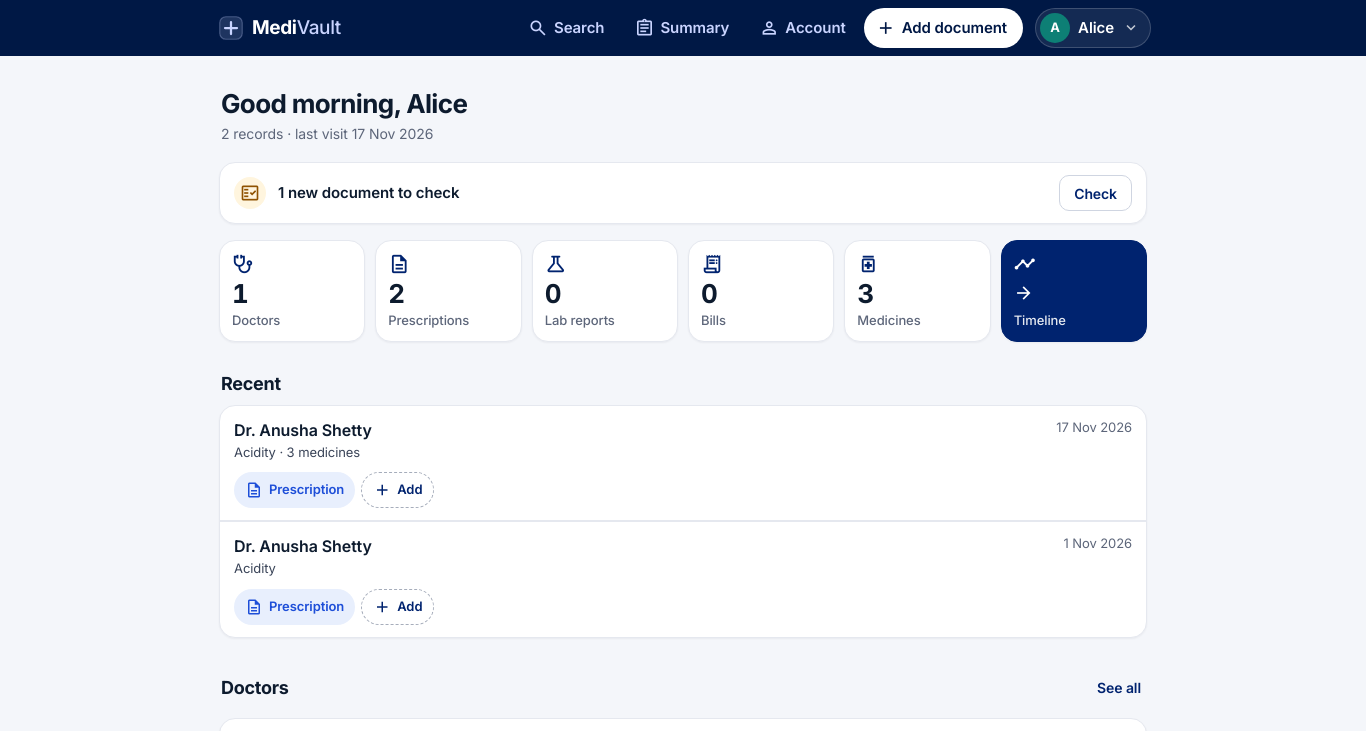
Test: closing without saving changes nothing and it waits under "to check" on Home
expect the text "1 new document to check" is shown: met, box top-left (278, 183), bottom-right (459, 202)
Step 1. Click the button "Check" → (1096, 193), box top-left (1059, 175), bottom-right (1132, 211)
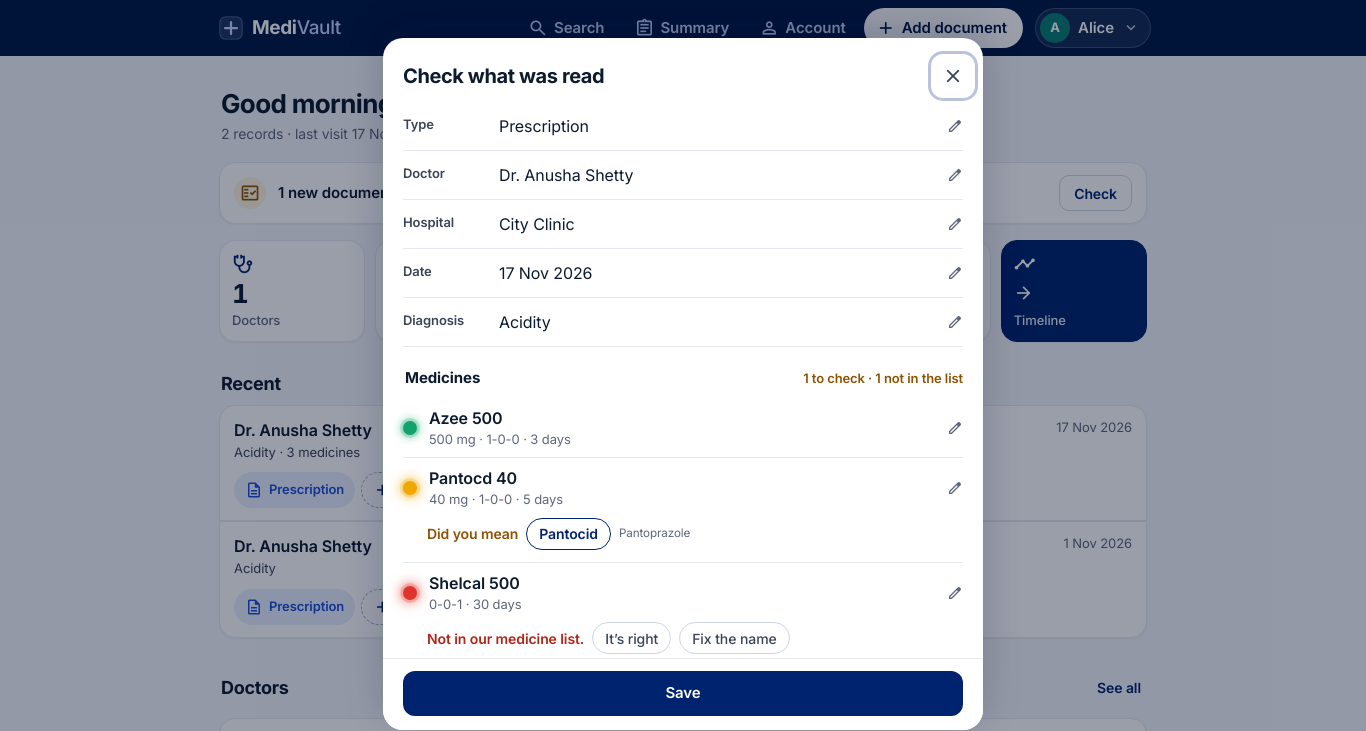
Step 2. Click the button named "Close without saving" → (953, 76), box top-left (931, 54), bottom-right (975, 98)
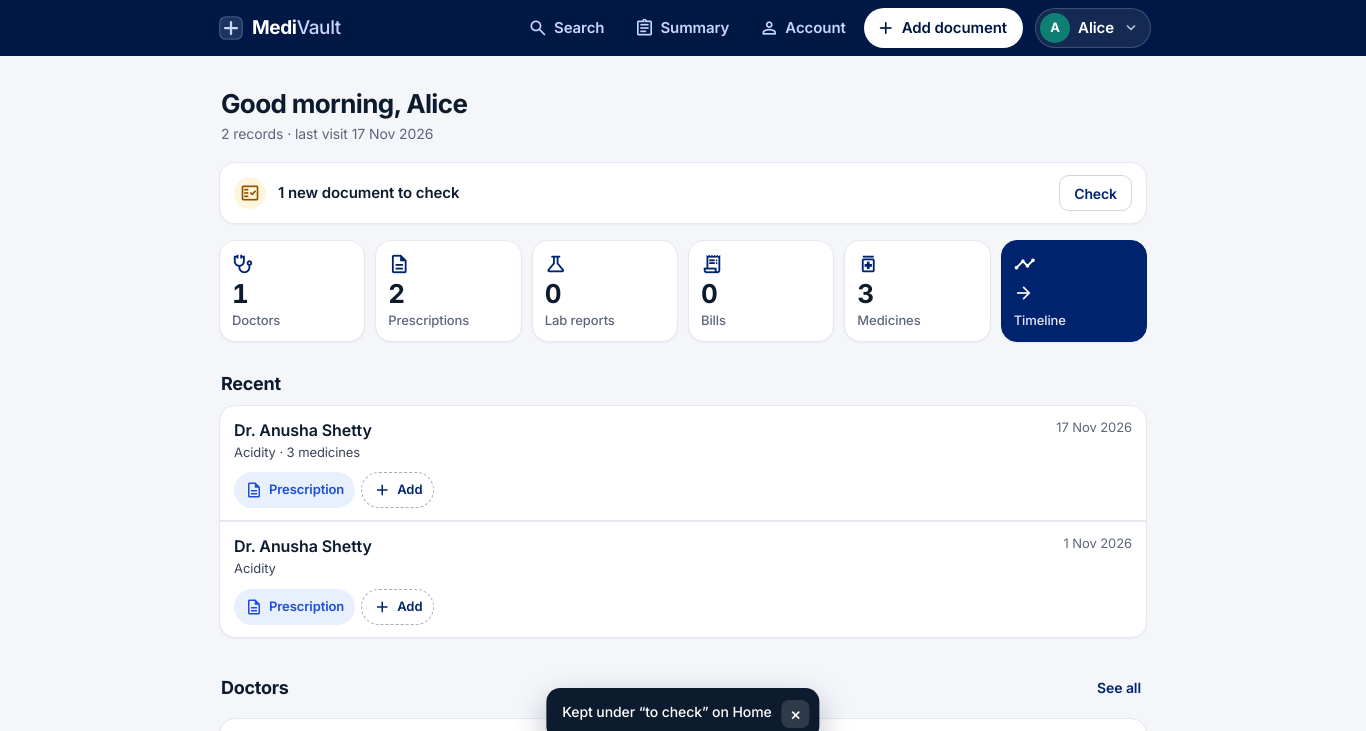
expect the text "1 new document to check" is shown: met, box top-left (278, 183), bottom-right (459, 202)
expect the text "Check what was read" is gone: met
